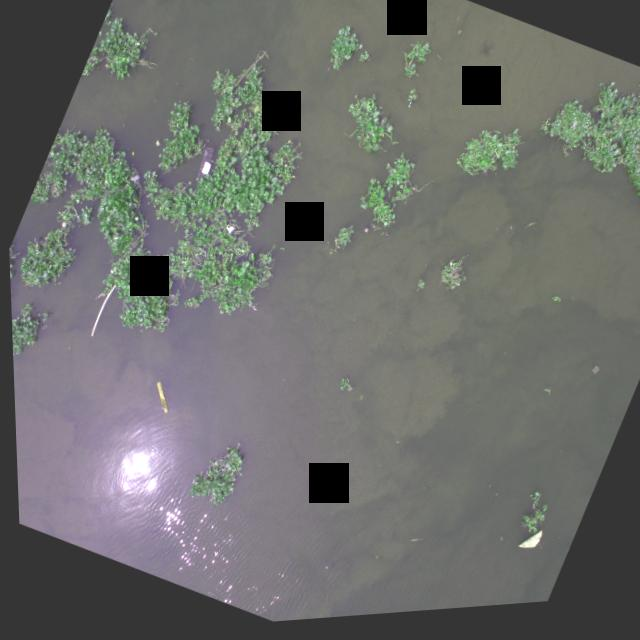plastic: (138, 376, 181, 424), (508, 530, 546, 571), (193, 161, 214, 184), (586, 371, 598, 386), (128, 174, 140, 187), (359, 231, 370, 243), (58, 221, 68, 232), (153, 140, 162, 151), (381, 238, 389, 247), (38, 323, 46, 332), (324, 70, 332, 79)
